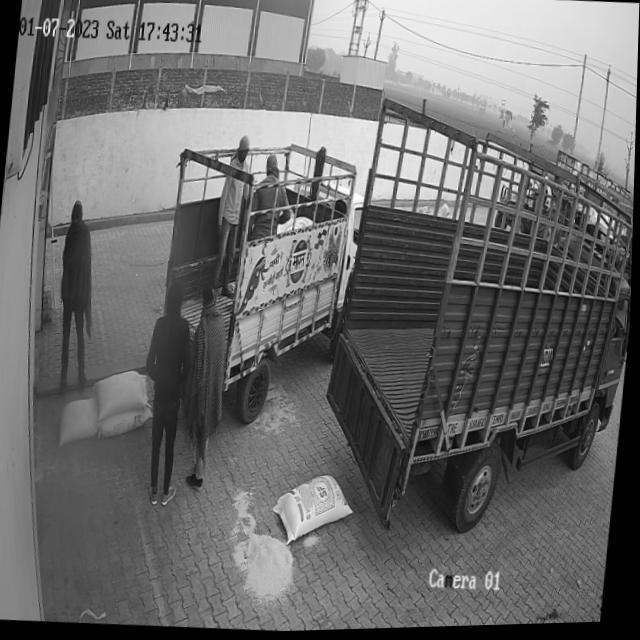sack: (272, 472, 358, 549), (92, 367, 152, 424), (58, 395, 102, 447), (100, 403, 155, 440)
